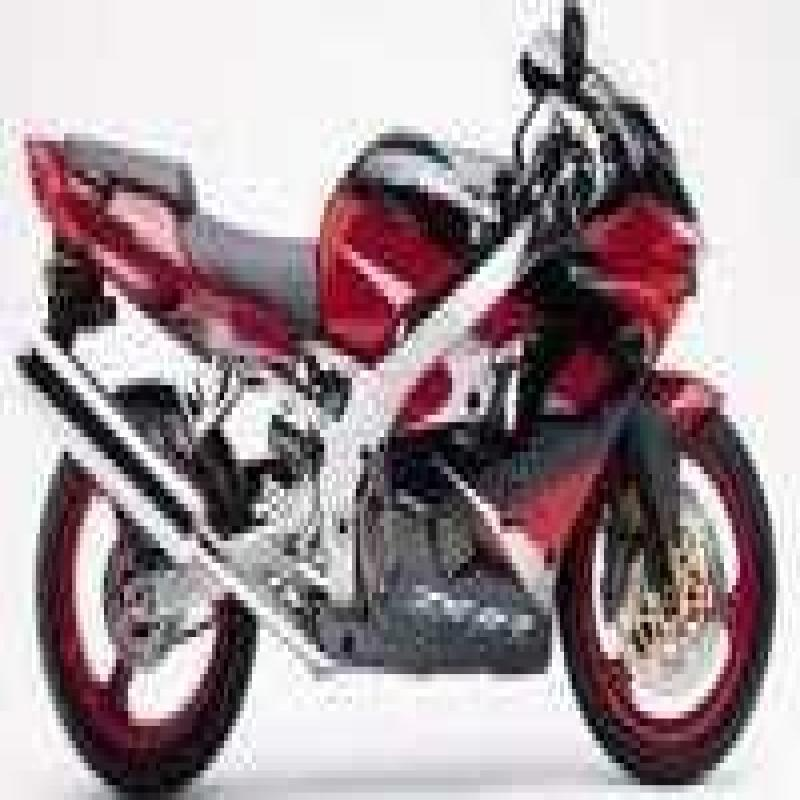bike: (18, 32, 800, 799)
